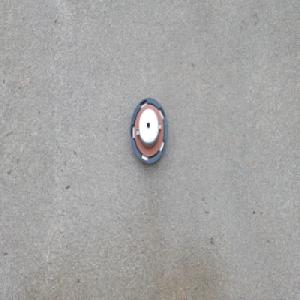FuelCap: (129, 95, 169, 166)
